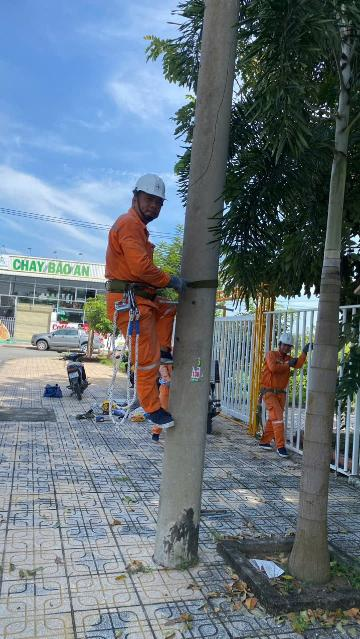gloves: (165, 262, 196, 300), (300, 334, 316, 361), (287, 349, 300, 376), (160, 381, 178, 390)
harness: (87, 270, 161, 308), (244, 385, 297, 405)
helmet: (133, 170, 168, 204), (276, 328, 302, 351)
shoes: (125, 406, 198, 444), (150, 335, 191, 373), (252, 432, 277, 461), (273, 443, 301, 466), (142, 428, 163, 446)
